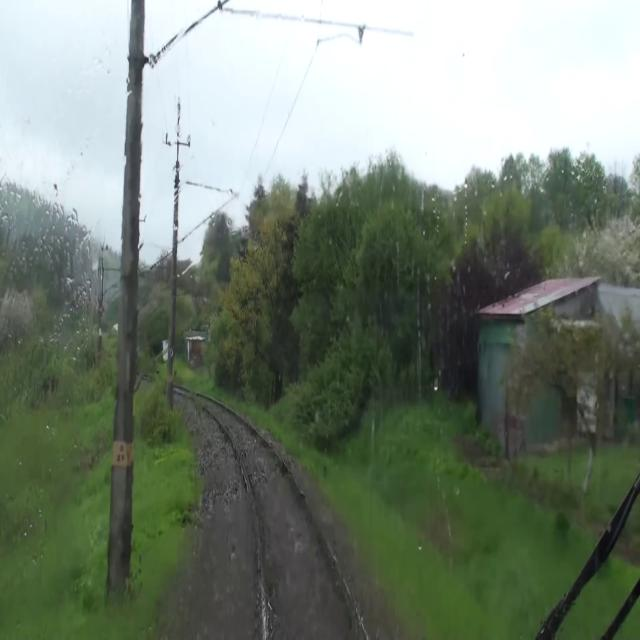rail-track: (196, 396, 364, 639)
